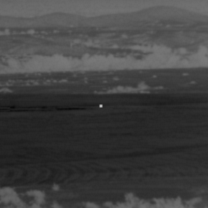Target: (98, 103, 104, 109)
